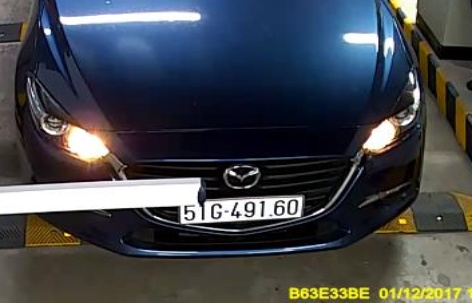plate: (177, 193, 307, 224)
